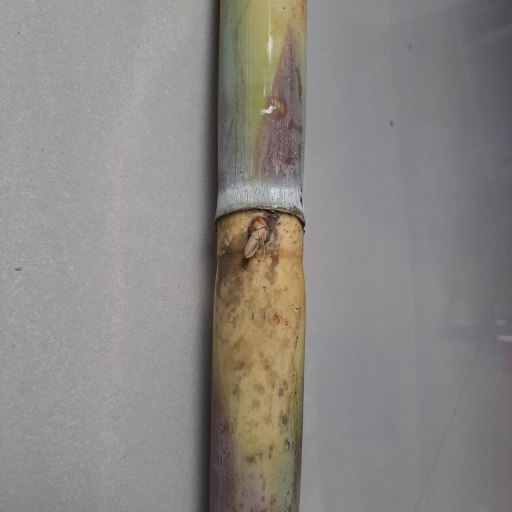Sprouted_Bud: (243, 215, 271, 260)
